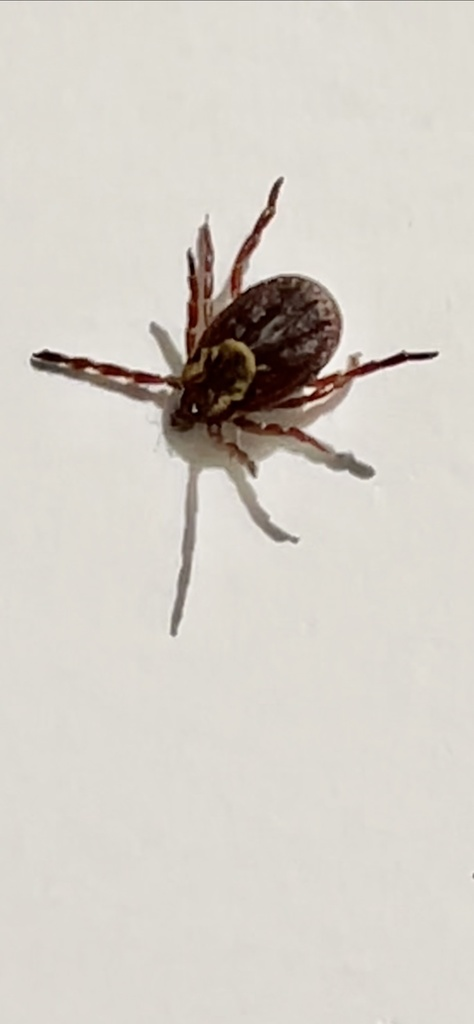garrapata: (23, 171, 445, 479)
